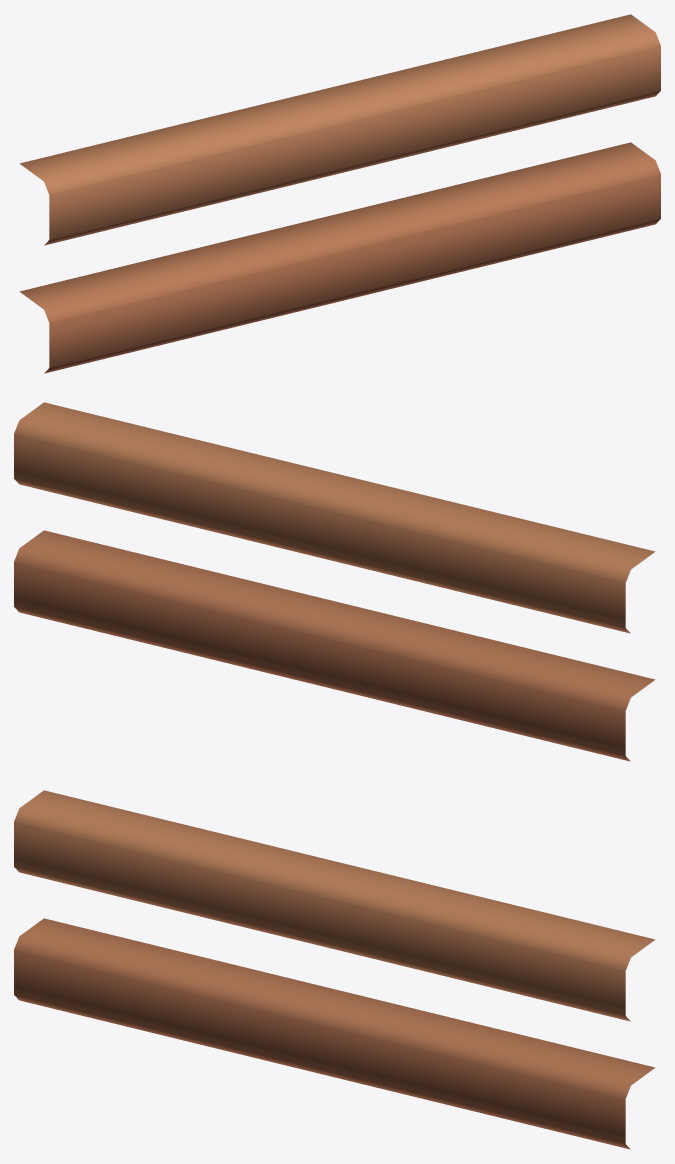
File: Fence Rails Long.glb
3 views of the same model, one above another, from view 1: azimuth 30°, elevation 25°; view 2: azimuth 150°, elevation 25°; view 3: azimuth 330°, elevation 25° (orthographic).
Parts seen in each view (by area): view 1: fence_rails_long; view 2: fence_rails_long; view 3: fence_rails_long.
Part boxes in pixels (bbox=[...]): fence_rails_long: bbox=[19, 14, 660, 373]; fence_rails_long: bbox=[14, 402, 655, 761]; fence_rails_long: bbox=[14, 790, 655, 1149].
Size of the model in its own units: 2 by 0.6 by 0.2.
1 material, 1 textured.
